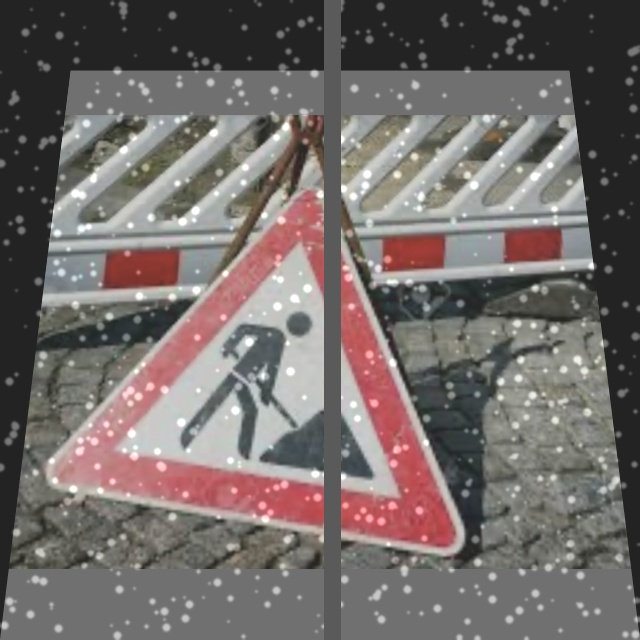Men_at_Work: (90, 198, 470, 556)
